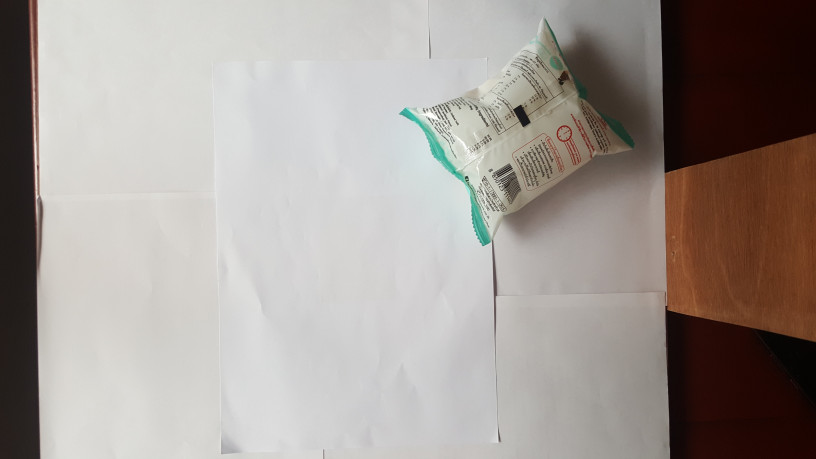farmhouse-sweetsandwich-chocolate: (400, 16, 638, 251)
